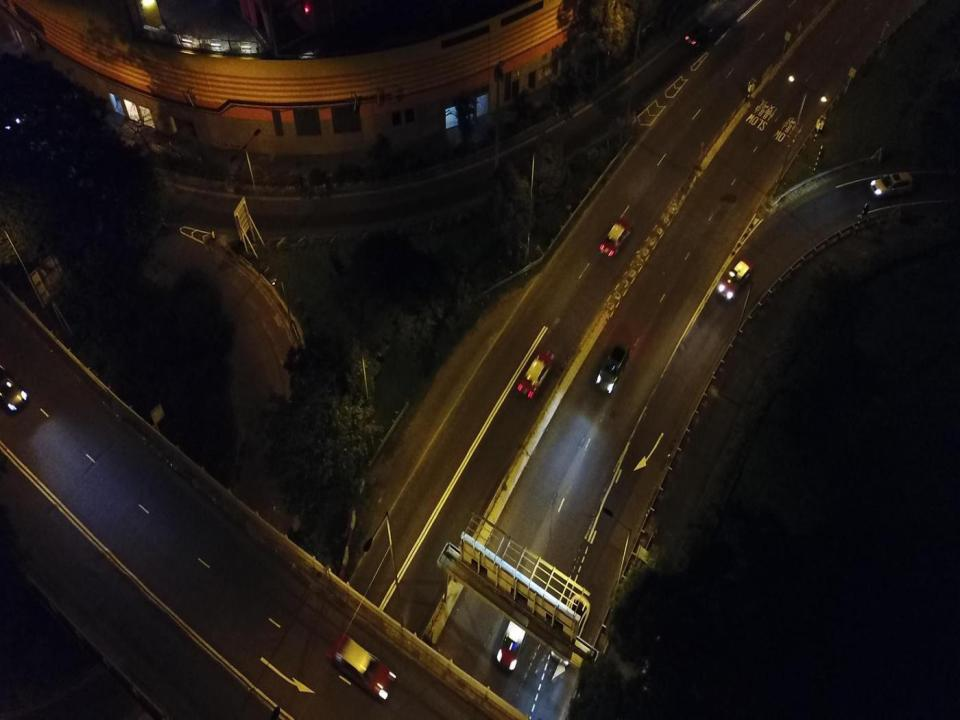car: (326, 630, 396, 699), (495, 601, 527, 674), (516, 344, 554, 396), (596, 339, 629, 395), (717, 256, 752, 301), (598, 219, 632, 259), (869, 167, 914, 197), (0, 371, 27, 415), (684, 20, 717, 47)
